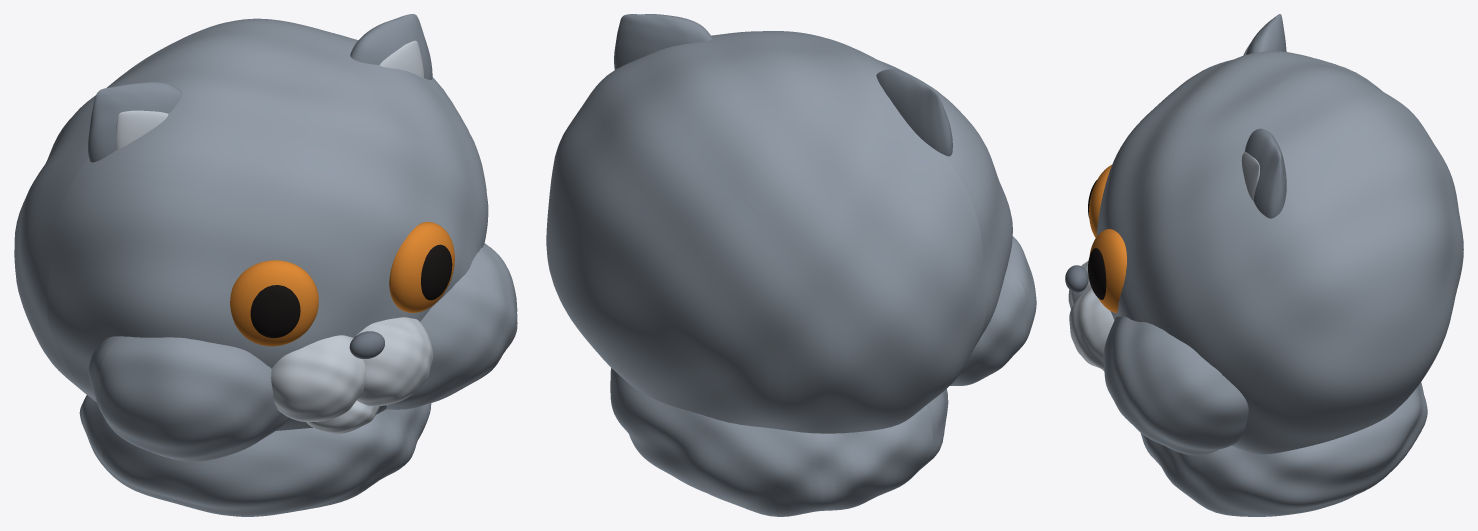
Rendered from head-cat-british-full.glb.
The picture shows the model from 3 angles, left to right: view 1: azimuth 30°, elevation 25°; view 2: azimuth 150°, elevation 25°; view 3: azimuth 270°, elevation 25°; orthographic projection. The views are drawn at different scales.
Parts seen in each view (by area): view 1: PM_FUR_MAIN_1, PM_FUR_MAIN_16, PM_FUR_MAIN_2, PM_FUR_MAIN_3, PM_FUR_SECONDARY_4, PM_FUR_SECONDARY_5, PM_EYES_7, PM_EARS_12, PM_EYES_9, PM_EARS_14, Eyes_Pupil_8, Eyes_Pupil_10 (+4 smaller); view 2: PM_FUR_MAIN_1, PM_FUR_MAIN_16, PM_FUR_MAIN_2, PM_EARS_12, PM_EARS_14; view 3: PM_FUR_MAIN_1, PM_FUR_MAIN_16, PM_FUR_MAIN_3, PM_EARS_14, PM_FUR_SECONDARY_5, PM_EYES_9, PM_EARS_12, Eyes_Pupil_10, PM_EYES_7, PM_FUR_SECONDARY_15, PM_NOSE_11.
Boxes of the visible parts, x1,y1,x2,y2 form: PM_FUR_MAIN_1: (14,18,488,430); PM_FUR_MAIN_16: (79,395,431,516); PM_FUR_MAIN_2: (88,336,289,461); PM_FUR_MAIN_3: (386,243,517,409); PM_FUR_SECONDARY_4: (271,335,365,421); PM_FUR_SECONDARY_5: (356,317,433,406); PM_EYES_7: (230,260,318,346); PM_EARS_12: (88,81,182,162); PM_EYES_9: (389,222,454,312); PM_EARS_14: (350,14,432,79); Eyes_Pupil_8: (250,285,300,338); Eyes_Pupil_10: (421,244,452,300); PM_FUR_MAIN_1: (546,31,1012,433); PM_FUR_MAIN_16: (610,368,948,516); PM_FUR_MAIN_2: (950,236,1036,385); PM_EARS_12: (876,69,952,156); PM_EARS_14: (614,14,712,69); PM_FUR_MAIN_1: (1097,51,1463,454); PM_FUR_MAIN_16: (1140,382,1427,516); PM_FUR_MAIN_3: (1103,316,1248,455); PM_EARS_14: (1245,128,1286,218); PM_FUR_SECONDARY_5: (1069,285,1114,369); PM_EYES_9: (1089,229,1126,313); PM_EARS_12: (1245,14,1286,54); Eyes_Pupil_10: (1088,248,1106,299); PM_EYES_7: (1089,165,1111,237); PM_FUR_SECONDARY_15: (1241,152,1259,200); PM_NOSE_11: (1065,265,1088,292).
Size of the model in its own units: 0.0755 by 0.0767 by 0.0674.
